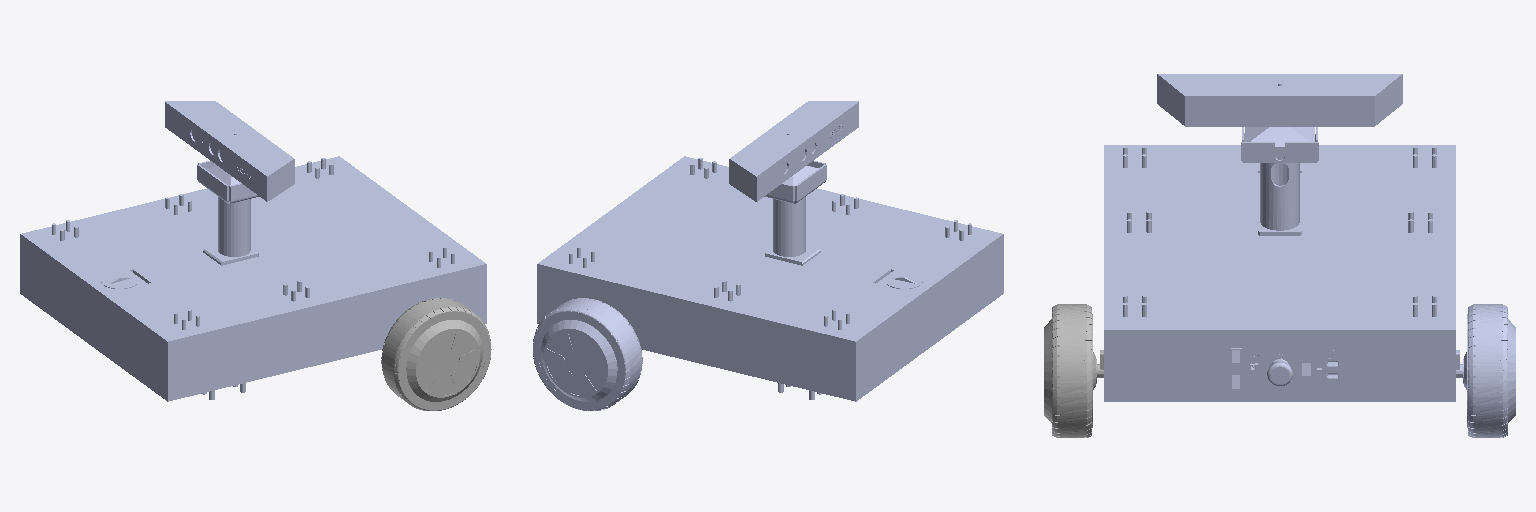
The robot description file, URDF, robot "urdf_4":
<robot
  name="urdf_4">
  <link
    name="base_link">
    <inertial>
      <origin
        xyz="0.24651 0.075473 -0.19999"
        rpy="0 0 0" />
      <mass
        value="7.1775" />
      <inertia
        ixx="0.073256"
        ixy="0.0034739"
        ixz="-1.1186E-05"
        iyy="0.096964"
        iyz="-3.8446E-06"
        izz="0.077702" />
    </inertial>
    <visual>
      <origin
        xyz="0 0 0"
        rpy="0 0 0" />
      <geometry>
        <mesh
          filename="package://urdf_4/meshes/base_link.STL" />
      </geometry>
      <material
        name="">
        <color
          rgba="0.79216 0.81961 0.93333 1" />
      </material>
    </visual>
    <collision>
      <origin
        xyz="0 0 0"
        rpy="0 0 0" />
      <geometry>
        <mesh
          filename="package://urdf_4/meshes/base_link.STL" />
      </geometry>
    </collision>
  </link>
  <link
    name="IMU_Link">
    <inertial>
      <origin
        xyz="-0.0069722 -0.0010426 0.012588"
        rpy="0 0 0" />
      <mass
        value="0.00062885" />
      <inertia
        ixx="4.1919E-09"
        ixy="1.0905E-09"
        ixz="2.1232E-11"
        iyy="5.0666E-09"
        iyz="-8.287E-11"
        izz="2.3952E-09" />
    </inertial>
    <visual>
      <origin
        xyz="0 0 0"
        rpy="0 0 0" />
      <geometry>
        <mesh
          filename="package://urdf_4/meshes/IMU_Link.STL" />
      </geometry>
      <material
        name="">
        <color
          rgba="0.79216 0.81961 0.93333 1" />
      </material>
    </visual>
    <collision>
      <origin
        xyz="0 0 0"
        rpy="0 0 0" />
      <geometry>
        <mesh
          filename="package://urdf_4/meshes/IMU_Link.STL" />
      </geometry>
    </collision>
  </link>
  <joint
    name="IMU_Joint"
    type="fixed">
    <origin
      xyz="0.2575 0.2125 0.08"
      rpy="1.5708 0 0" />
    <parent
      link="base_link" />
    <child
      link="IMU_Link" />
    <axis
      xyz="0 0 0" />
  </joint>
  <link
    name="Wheel_Front_Left_Link">
    <inertial>
      <origin
        xyz="0.022765 0.037176 0.12315"
        rpy="0 0 0" />
      <mass
        value="0.94686" />
      <inertia
        ixx="7.1172E-05"
        ixy="3.9361E-16"
        ixz="-6.4209E-15"
        iyy="7.0626E-05"
        iyz="4.2076E-06"
        izz="5.4608E-07" />
    </inertial>
    <visual>
      <origin
        xyz="0 0 0"
        rpy="0 0 0" />
      <geometry>
        <mesh
          filename="package://urdf_4/meshes/Wheel_Front_Left_Link.STL" />
      </geometry>
      <material
        name="">
        <color
          rgba="0.75294 0.75294 0.75294 1" />
      </material>
    </visual>
    <collision>
      <origin
        xyz="0 0 0"
        rpy="0 0 0" />
      <geometry>
        <mesh
          filename="package://urdf_4/meshes/Wheel_Front_Left_Link.STL" />
      </geometry>
    </collision>
  </link>
  <joint
    name="Wheel_Front_Left_Joint"
    type="fixed">
    <origin
      xyz="0.077235 0.086569 -0.045103"
      rpy="1.5708 0 0" />
    <parent
      link="base_link" />
    <child
      link="Wheel_Front_Left_Link" />
    <axis
      xyz="0 0 0" />
  </joint>
  <link
    name="Wheel_Front_Right_Link">
    <inertial>
      <origin
        xyz="0.022765 0.037176 0.12315"
        rpy="0 0 0" />
      <mass
        value="0.94686" />
      <inertia
        ixx="7.1172E-05"
        ixy="3.9361E-16"
        ixz="-6.4209E-15"
        iyy="7.0626E-05"
        iyz="4.2076E-06"
        izz="5.4608E-07" />
    </inertial>
    <visual>
      <origin
        xyz="0 0 0"
        rpy="0 0 0" />
      <geometry>
        <mesh
          filename="package://urdf_4/meshes/Wheel_Front_Right_Link.STL" />
      </geometry>
      <material
        name="">
        <color
          rgba="0.75294 0.75294 0.75294 1" />
      </material>
    </visual>
    <collision>
      <origin
        xyz="0 0 0"
        rpy="0 0 0" />
      <geometry>
        <mesh
          filename="package://urdf_4/meshes/Wheel_Front_Right_Link.STL" />
      </geometry>
    </collision>
  </link>
  <joint
    name="Wheel_Front_Right_Joint"
    type="fixed">
    <origin
      xyz="0.12277 0.31343 -0.045103"
      rpy="1.5708 0 3.1416" />
    <parent
      link="base_link" />
    <child
      link="Wheel_Front_Right_Link" />
    <axis
      xyz="0 0 0" />
  </joint>
  <link
    name="Wheel_Back_Left_Link">
    <inertial>
      <origin
        xyz="0.022765 0.037176 0.12315"
        rpy="0 0 0" />
      <mass
        value="0.94686" />
      <inertia
        ixx="7.1172E-05"
        ixy="3.9361E-16"
        ixz="-6.4209E-15"
        iyy="7.0626E-05"
        iyz="4.2076E-06"
        izz="5.4608E-07" />
    </inertial>
    <visual>
      <origin
        xyz="0 0 0"
        rpy="0 0 0" />
      <geometry>
        <mesh
          filename="package://urdf_4/meshes/Wheel_Back_Left_Link.STL" />
      </geometry>
      <material
        name="">
        <color
          rgba="0.75294 0.75294 0.75294 1" />
      </material>
    </visual>
    <collision>
      <origin
        xyz="0 0 0"
        rpy="0 0 0" />
      <geometry>
        <mesh
          filename="package://urdf_4/meshes/Wheel_Back_Left_Link.STL" />
      </geometry>
    </collision>
  </link>
  <joint
    name="Wheel_Back_Left_Joint"
    type="fixed">
    <origin
      xyz="0.37723 0.086569 -0.045103"
      rpy="1.5708 0 0" />
    <parent
      link="base_link" />
    <child
      link="Wheel_Back_Left_Link" />
    <axis
      xyz="0 0 0" />
  </joint>
  <link
    name="Wheel_Back_Right_Link">
    <inertial>
      <origin
        xyz="0.24651 0.075473 -0.19999"
        rpy="0 0 0" />
      <mass
        value="7.1775" />
      <inertia
        ixx="0.073256"
        ixy="0.0034739"
        ixz="-1.1186E-05"
        iyy="0.096964"
        iyz="-3.8446E-06"
        izz="0.077702" />
    </inertial>
    <visual>
      <origin
        xyz="0 0 0"
        rpy="0 0 0" />
      <geometry>
        <mesh
          filename="package://urdf_4/meshes/Wheel_Back_Right_Link.STL" />
      </geometry>
      <material
        name="">
        <color
          rgba="0.79216 0.81961 0.93333 1" />
      </material>
    </visual>
    <collision>
      <origin
        xyz="0 0 0"
        rpy="0 0 0" />
      <geometry>
        <mesh
          filename="package://urdf_4/meshes/Wheel_Back_Right_Link.STL" />
      </geometry>
    </collision>
  </link>
  <joint
    name="Wheel_Back_Right_Joint"
    type="fixed">
    <origin
      xyz="0.42277 0.31343 -0.045103"
      rpy="1.5708 0 3.1416" />
    <parent
      link="base_link" />
    <child
      link="Wheel_Back_Right_Link" />
    <axis
      xyz="0 0 0" />
  </joint>
</robot>

--- What the picture shows (computed from the rendered views, not written in the file) ---
The picture shows the robot from 3 angles, left to right: view 1: azimuth 30°, elevation 25°; view 2: azimuth 150°, elevation 25°; view 3: azimuth 270°, elevation 25°; orthographic projection.
Robot: urdf_4 — 6 links, 5 joints (5 fixed); root link base_link; default pose: every joint at zero.
Visible links, largest first — view 1: base_link, Wheel_Back_Left_Link; view 2: base_link, Wheel_Back_Right_Link; view 3: base_link, Wheel_Back_Left_Link, Wheel_Back_Right_Link.
Link boxes in pixels (bbox=[...]): base_link: bbox=[20, 101, 486, 401]; Wheel_Back_Left_Link: bbox=[381, 298, 491, 410]; base_link: bbox=[537, 101, 1003, 401]; Wheel_Back_Right_Link: bbox=[533, 298, 642, 410]; base_link: bbox=[1104, 74, 1455, 401]; Wheel_Back_Left_Link: bbox=[1044, 304, 1103, 437]; Wheel_Back_Right_Link: bbox=[1456, 304, 1515, 437].
Size in the robot's own frame: 0.5206 by 0.536 by 0.3544 metres.
Meshes: 6 distinct files referenced, 4 mesh visuals loaded (4 binary STL); not drawn: 2 (reference not matched to a file when rendering).